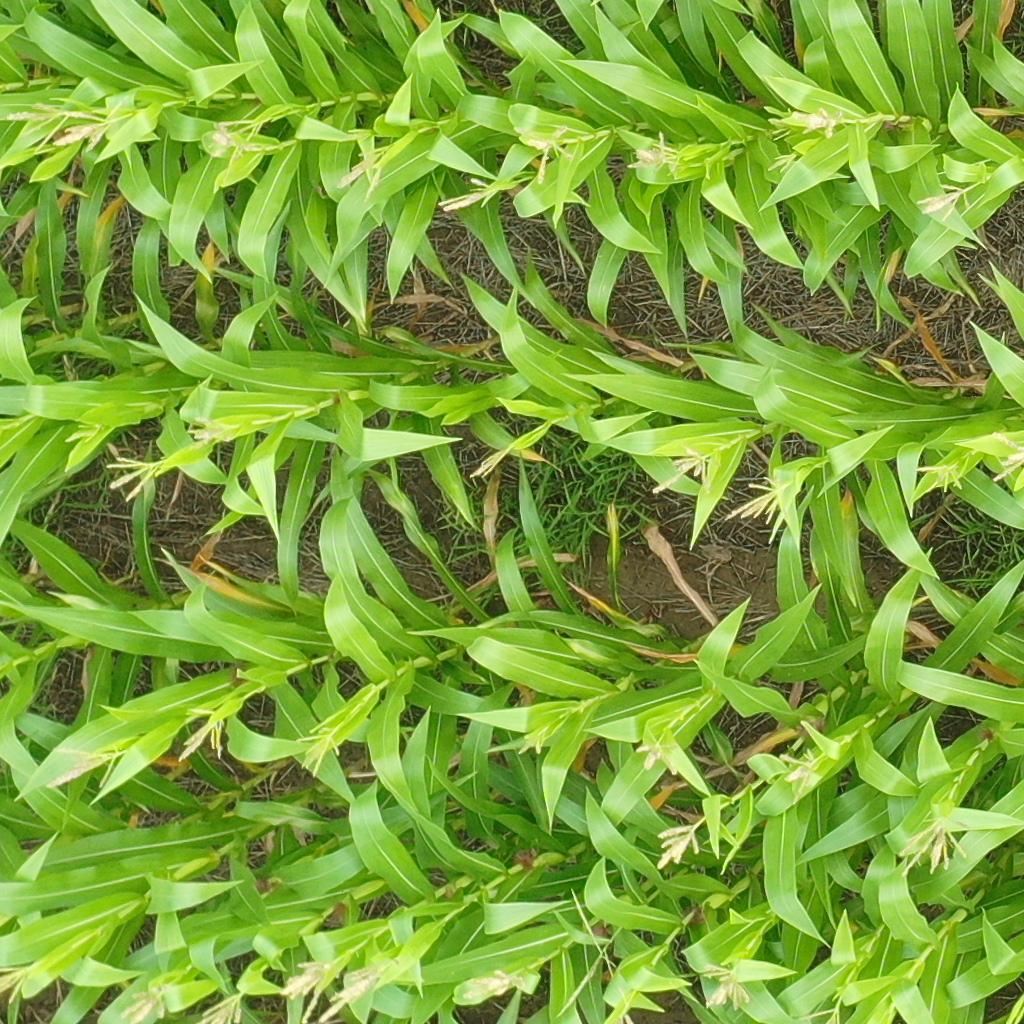Tassel: (724, 474, 801, 545), (318, 960, 394, 1024), (896, 816, 968, 879), (46, 743, 128, 792), (210, 115, 272, 178), (277, 957, 335, 1024), (650, 446, 721, 493), (336, 148, 391, 204), (51, 109, 119, 154), (520, 124, 572, 182), (105, 455, 167, 502), (178, 705, 226, 762), (624, 130, 684, 174), (294, 724, 343, 777), (655, 819, 702, 872), (778, 747, 820, 803), (771, 107, 843, 139), (703, 961, 750, 1010), (4, 98, 63, 137), (435, 176, 495, 213), (915, 184, 972, 221), (184, 415, 240, 452), (460, 968, 522, 1001), (120, 985, 169, 1024), (987, 431, 1024, 482), (194, 988, 244, 1024), (631, 736, 679, 773), (915, 458, 964, 494), (468, 448, 510, 479), (1, 965, 34, 1003), (793, 1001, 841, 1024), (517, 727, 546, 758), (64, 422, 101, 444), (767, 150, 798, 176), (337, 125, 376, 143)
